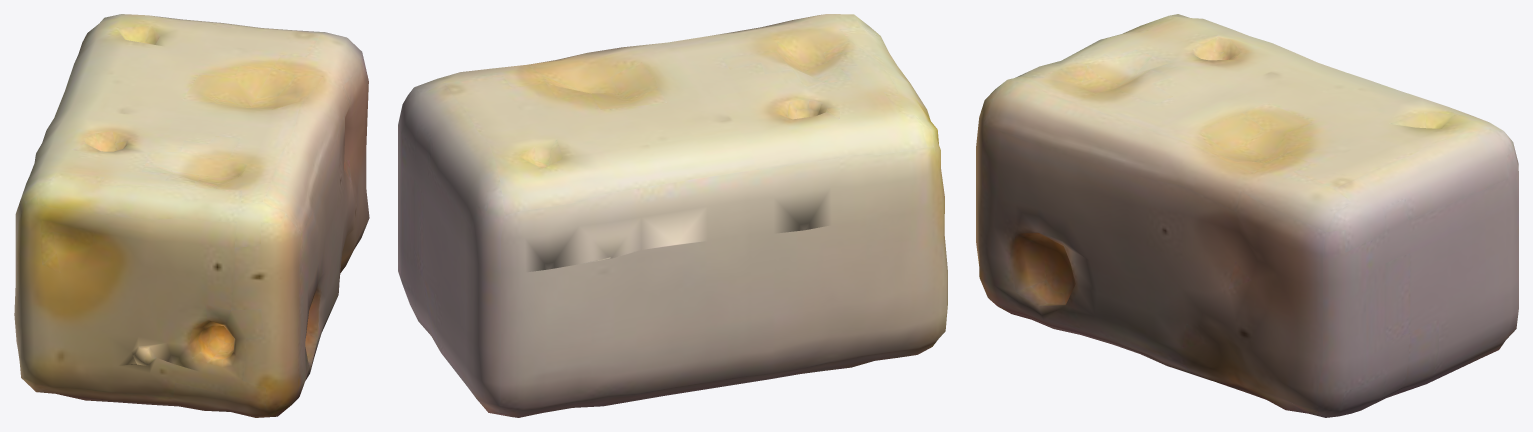
Rendered from feta.glb.
3 views of the same model, side by side, from view 1: azimuth 30°, elevation 25°; view 2: azimuth 150°, elevation 25°; view 3: azimuth 270°, elevation 25° (orthographic). The views are drawn at different scales.
Parts seen in each view (by area): view 1: Feta; view 2: Feta; view 3: Feta.
Boxes of the visible parts, box(x1,y1,x2,y2) form: Feta: box(14, 14, 369, 417); Feta: box(398, 14, 947, 417); Feta: box(976, 14, 1518, 417).
Size of the model in its own units: 1.69 by 0.8633 by 1.83.
Materials: 1 (1 with a texture image).
